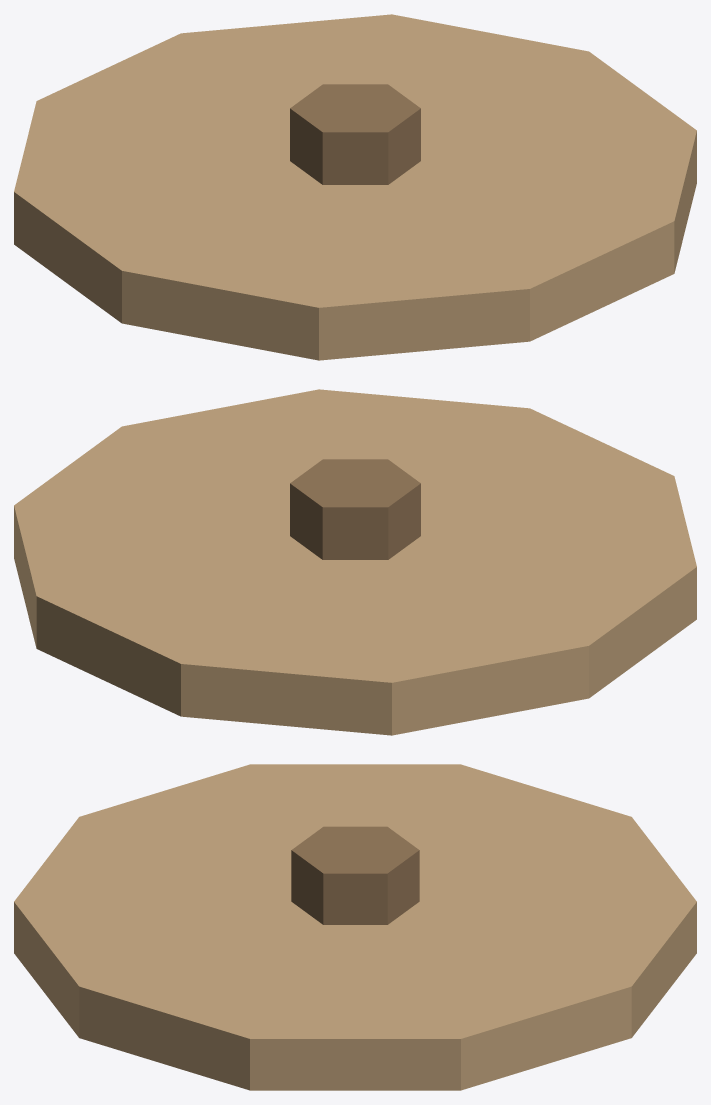
File: item_093_wheel_s.glb
3 views of the same model, one above another, from view 1: azimuth 30°, elevation 25°; view 2: azimuth 150°, elevation 25°; view 3: azimuth 270°, elevation 25° (orthographic). The views are drawn at different scales.
Parts seen in each view (by area): view 1: item_093_wheel_s; view 2: item_093_wheel_s; view 3: item_093_wheel_s.
Part boxes in pixels (box(x1,y1,x2,y2)): item_093_wheel_s: box(14, 14, 696, 360); item_093_wheel_s: box(14, 389, 696, 735); item_093_wheel_s: box(14, 764, 696, 1090).
Bounding box in the file's own units: 0.4565 × 0.08 × 0.48.
